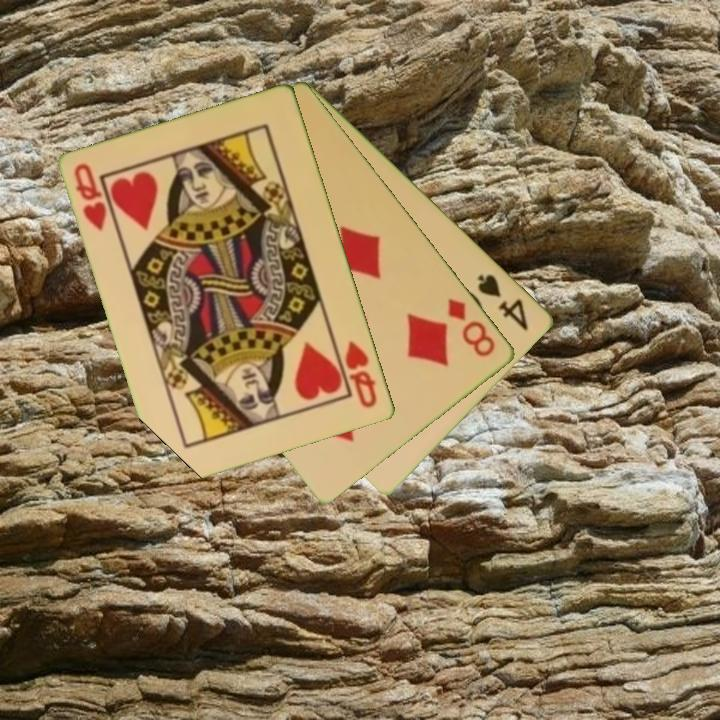4s: (474, 270, 532, 334)
8d: (444, 295, 499, 360)
Qh: (71, 160, 110, 235), (342, 337, 381, 411)
